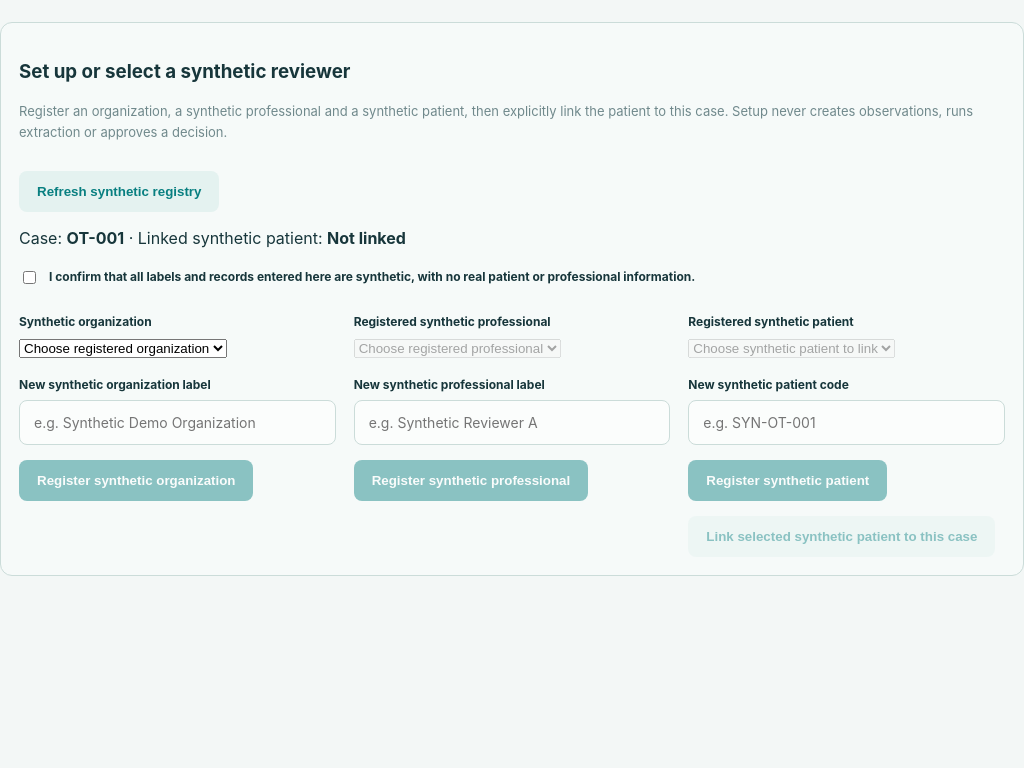
Test case: retains server linkage conflicts instead of marking setup complete or bypassing checks
Select "Synthetic Org" in the dropdown labelled "Synthetic organization" at (123, 348), box [19,339,227,358]
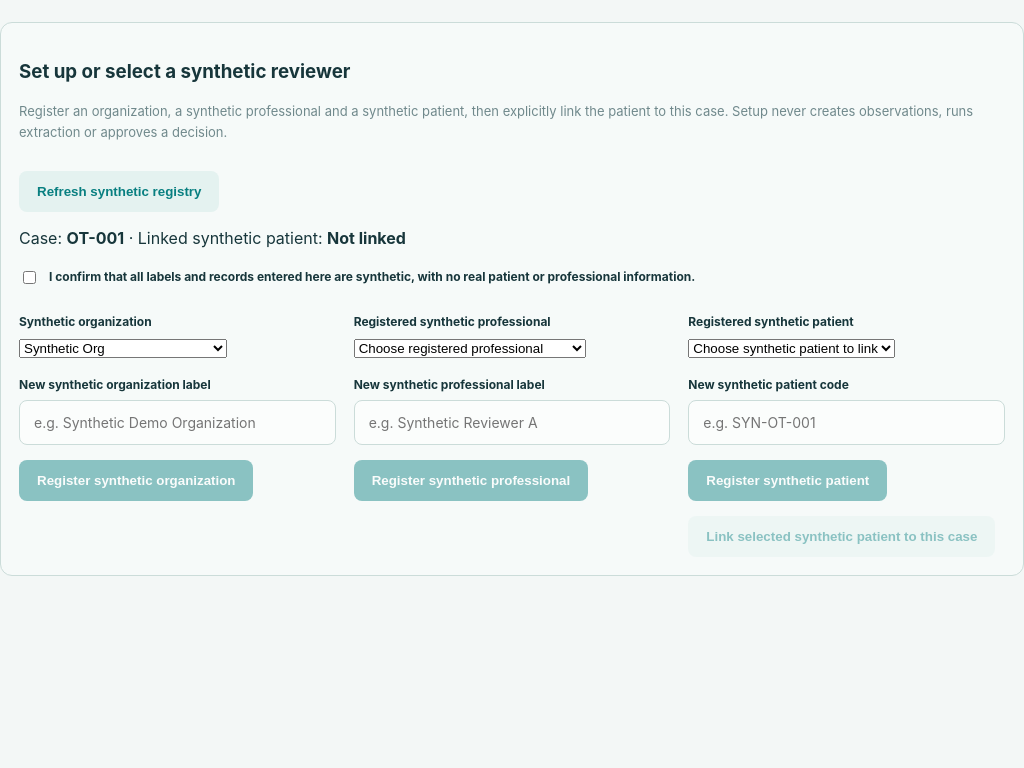
Select "Synthetic Reviewer · professional-1" in the dropdown labelled "Registered synthetic professional" at (470, 348), box [354,339,586,358]
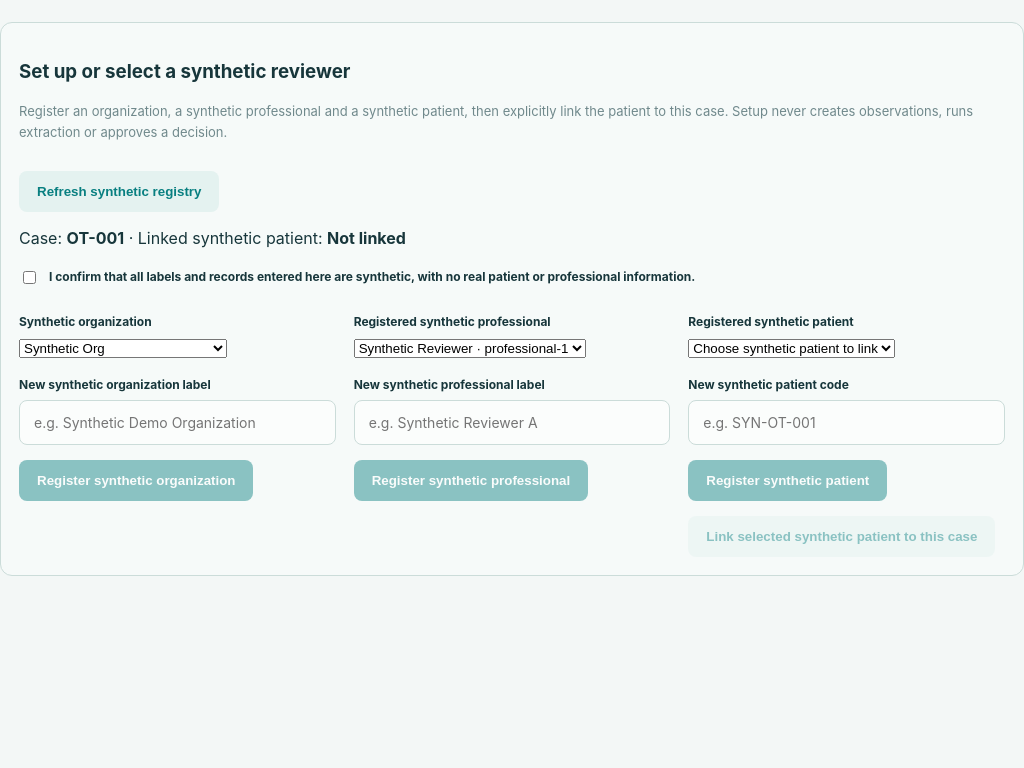
Select "SYN-OT-001 · patient-1" in the dropdown labelled "Registered synthetic patient" at (792, 348), box [688,339,895,358]
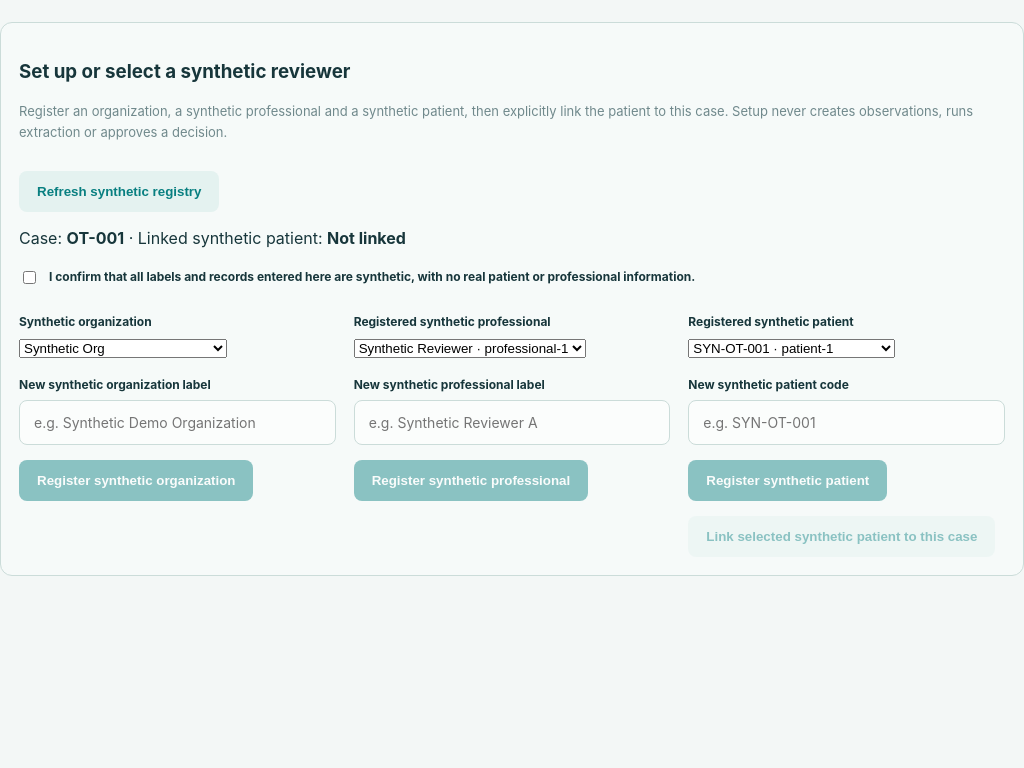
Click the checkbox at (30, 278), box [23,271,36,284]
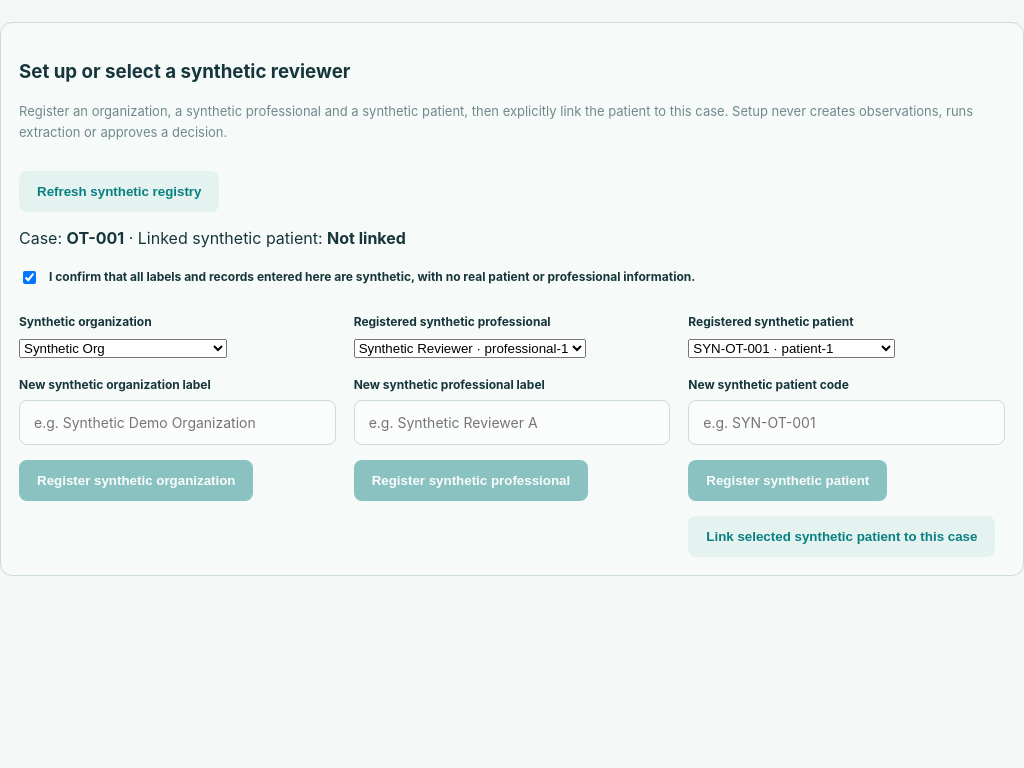
Click the button "Link selected synthetic patient to this case" at (842, 536), box [688,516,995,557]
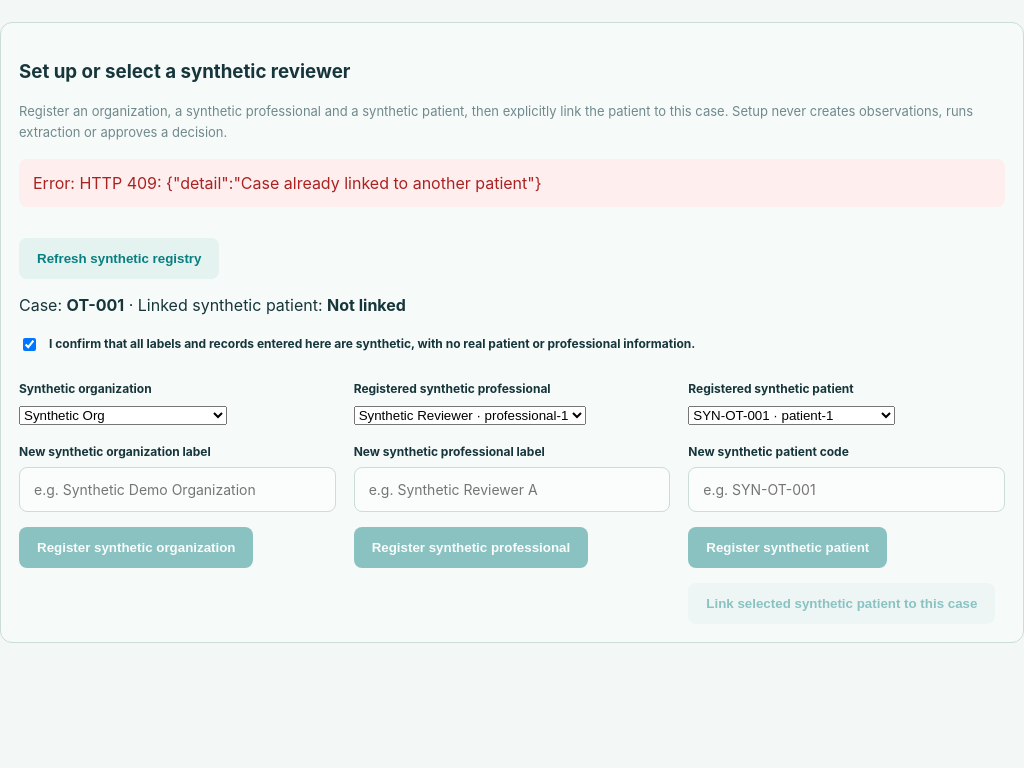
Expected: the message shows "Case already linked", [33,173,542,193]
